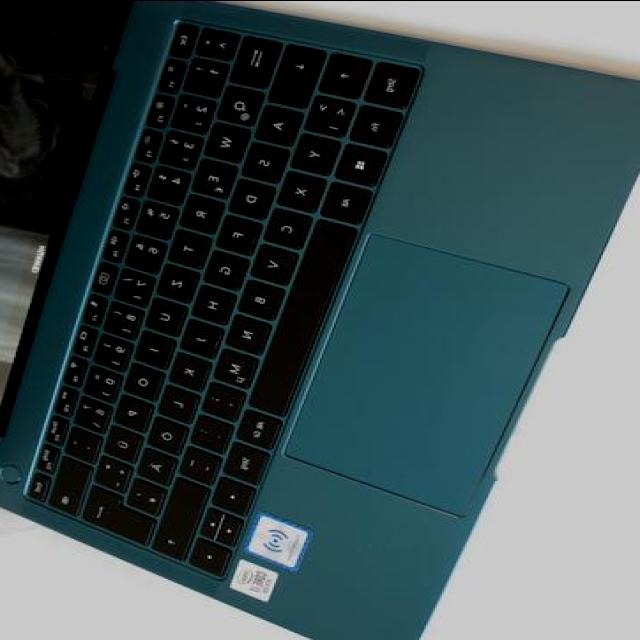0: (78, 363, 117, 400)
1: (179, 55, 223, 93)
2: (167, 90, 211, 130)
3: (154, 127, 196, 167)
4: (142, 163, 184, 201)
5: (131, 197, 171, 235)
6: (119, 232, 161, 270)
7: (108, 266, 148, 304)
8: (98, 299, 138, 337)
9: (87, 331, 127, 369)
a: (249, 102, 297, 143)
accent: (59, 425, 96, 461)
ae: (131, 444, 171, 484)
alt-left: (315, 177, 367, 221)
altgr-right: (232, 406, 276, 447)
b: (234, 277, 280, 318)
c: (258, 205, 308, 247)
caret: (191, 26, 233, 56)
comma: (197, 378, 239, 418)
d: (223, 176, 271, 217)
del: (45, 454, 87, 513)
e: (188, 155, 232, 196)
enter: (77, 483, 149, 541)
f: (211, 212, 257, 253)
g: (198, 248, 244, 289)
h: (186, 282, 230, 323)
hash: (121, 475, 161, 514)
i: (130, 328, 170, 366)
j: (175, 316, 217, 356)
k: (163, 349, 205, 389)
keyboard: (11, 11, 433, 579)
l: (153, 383, 195, 421)
less: (300, 91, 352, 132)
m: (209, 345, 253, 386)
minus: (175, 442, 214, 483)
n: (221, 311, 265, 352)
o: (119, 361, 159, 399)
oe: (142, 414, 182, 452)
p: (110, 392, 147, 430)
plus: (89, 451, 128, 489)
point: (186, 411, 226, 451)
q: (212, 82, 258, 123)
r: (175, 192, 219, 232)
s: (237, 139, 285, 180)
shift-left: (315, 50, 367, 95)
shift-lock: (264, 41, 320, 103)
shift-right: (147, 473, 205, 557)
space: (244, 220, 357, 413)
ss: (69, 393, 106, 432)
strg-left: (359, 58, 415, 106)
strg-right: (218, 438, 262, 483)
t: (163, 226, 205, 266)
tab: (227, 32, 280, 85)
u: (140, 295, 182, 335)
ue: (99, 424, 138, 462)
v: (246, 241, 292, 283)
w: (200, 119, 244, 159)
x: (272, 168, 320, 209)
y: (286, 131, 336, 172)
z: (153, 261, 195, 301)
